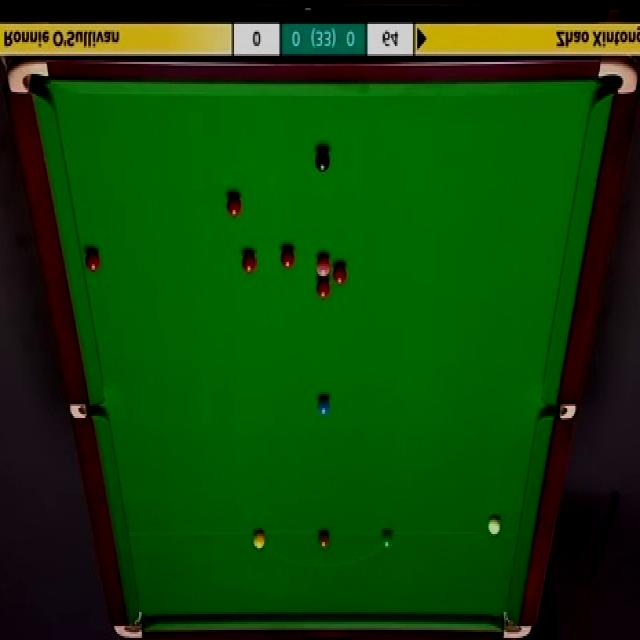black-ball: (315, 148, 331, 174)
blue-ball: (316, 395, 331, 418)
brown-ball: (317, 530, 330, 549)
green-ball: (381, 528, 393, 550)
pink-ball: (317, 255, 331, 278)
red-ball: (332, 260, 350, 286), (242, 248, 258, 276), (225, 194, 243, 218), (280, 243, 296, 270), (85, 248, 100, 274), (316, 276, 331, 301)
white-ball: (486, 512, 503, 539)
yellow-ball: (253, 532, 265, 552)
